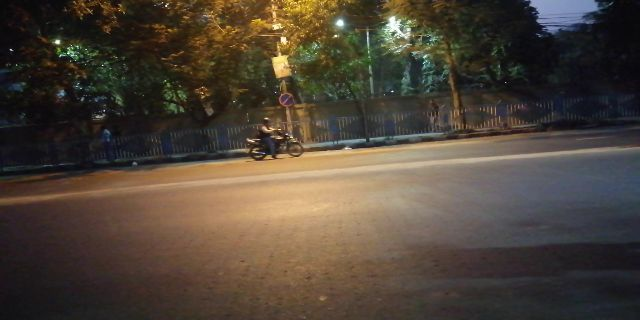Motorbike: (237, 116, 309, 163)
